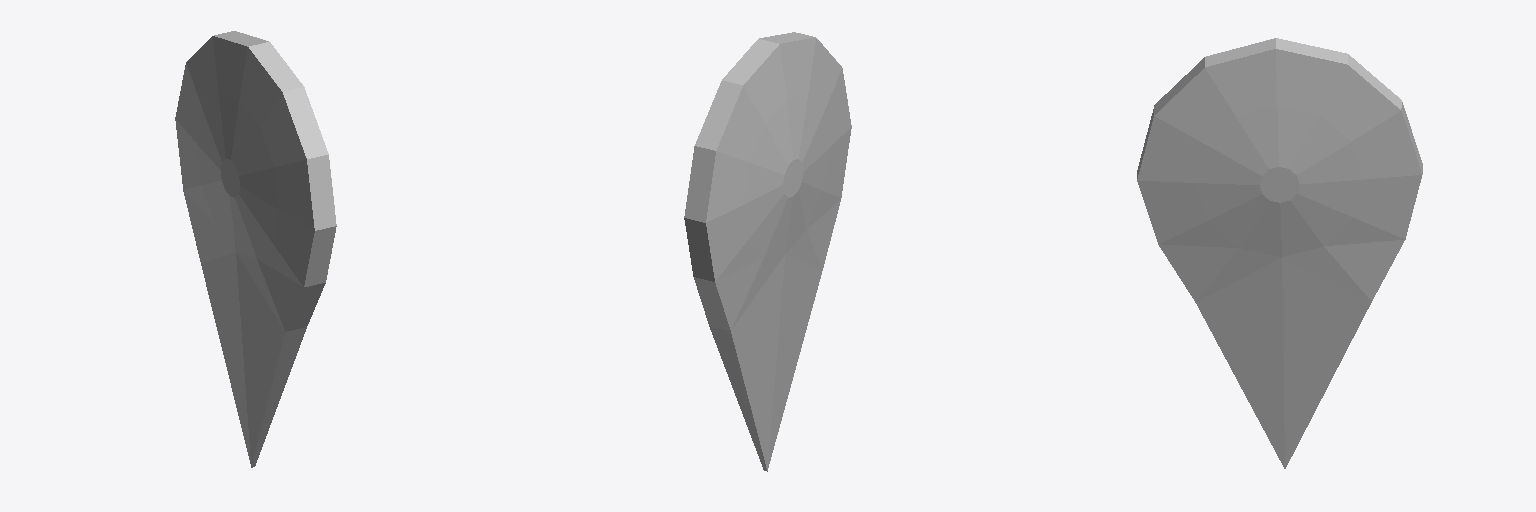
The model's file is marker.obj.
The picture shows the model from 3 angles: view 1: azimuth 30°, elevation 25°; view 2: azimuth 150°, elevation 25°; view 3: azimuth 270°, elevation 25°; orthographic projection.
Bounding box in the file's own units: 0.2828 × 2.24 × 1.36.